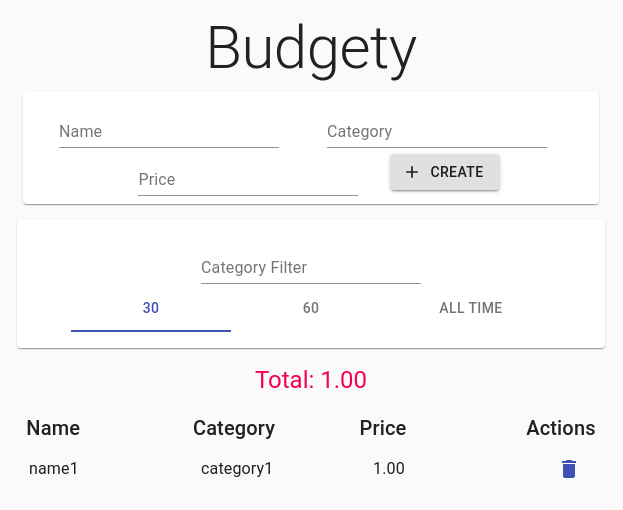
Scenario: GraphQL Mocks › deletes an item from the item list
Expected: the text "name1" is shown, [29,459,79,478]
Click the button named "delete item 1" at (569, 469), box [545,445,593,493]
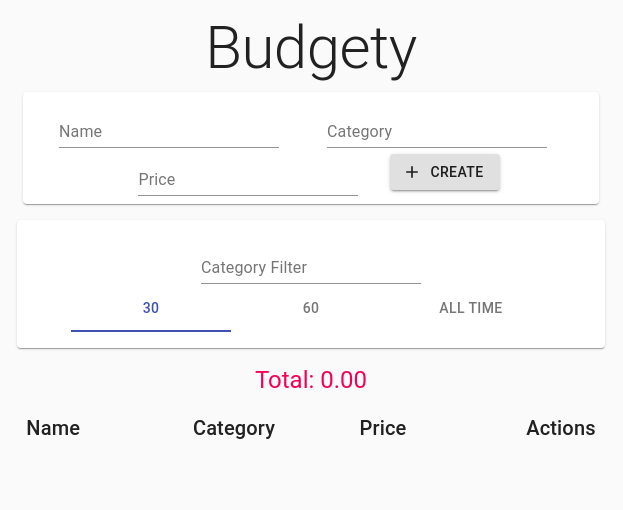
Now the text "name1" is gone
